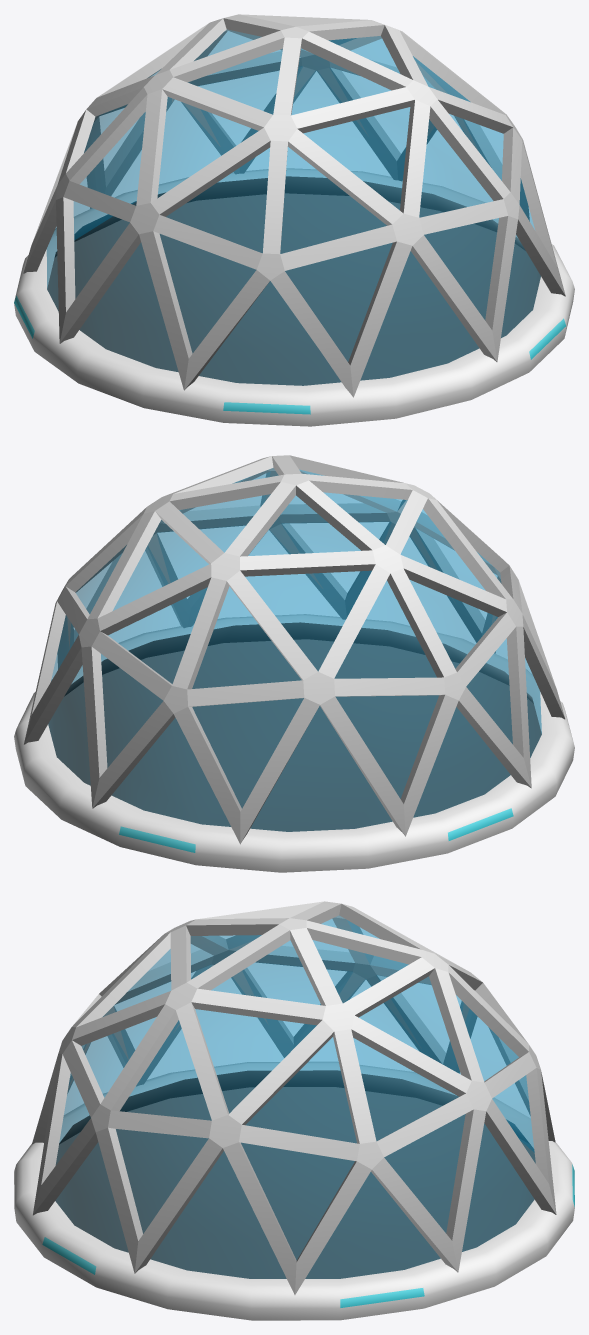
File: Space_Tent_01.fbx
3 views of the same model, one above another, from view 1: azimuth 30°, elevation 25°; view 2: azimuth 150°, elevation 25°; view 3: azimuth 270°, elevation 25° (orthographic).
Visible parts, largest first — view 1: Space_Tent_01; view 2: Space_Tent_01; view 3: Space_Tent_01.
Boxes of the visible parts, left/top/right/bottom form: Space_Tent_01: left=14, top=14, right=574, bottom=426; Space_Tent_01: left=14, top=455, right=574, bottom=872; Space_Tent_01: left=14, top=901, right=574, bottom=1320.
Bounding box in the file's own units: 758 × 415 × 758.
